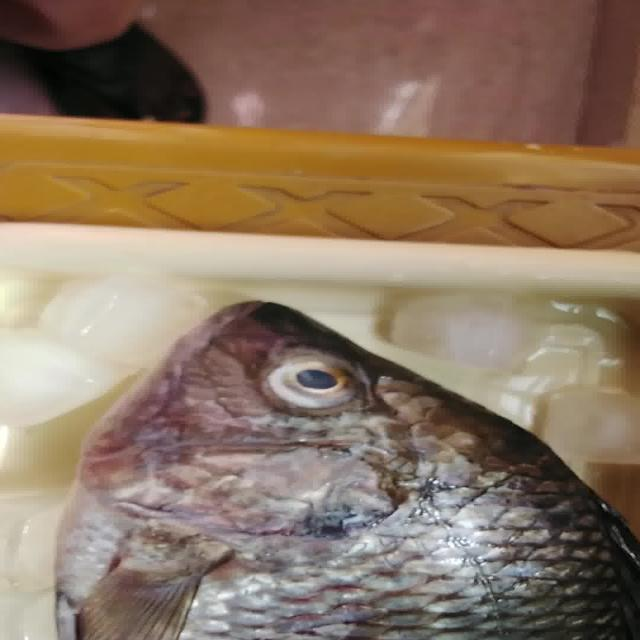Fresh: (243, 334, 409, 434)
